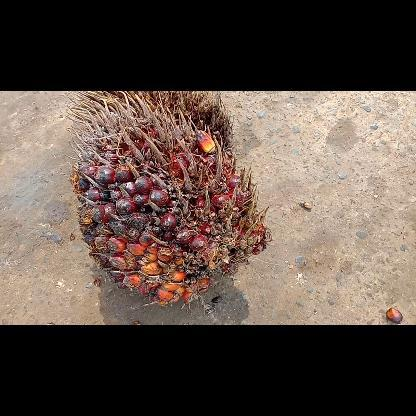Janjang kosong: (66, 90, 234, 148)
TBS masak: (68, 90, 272, 308)
